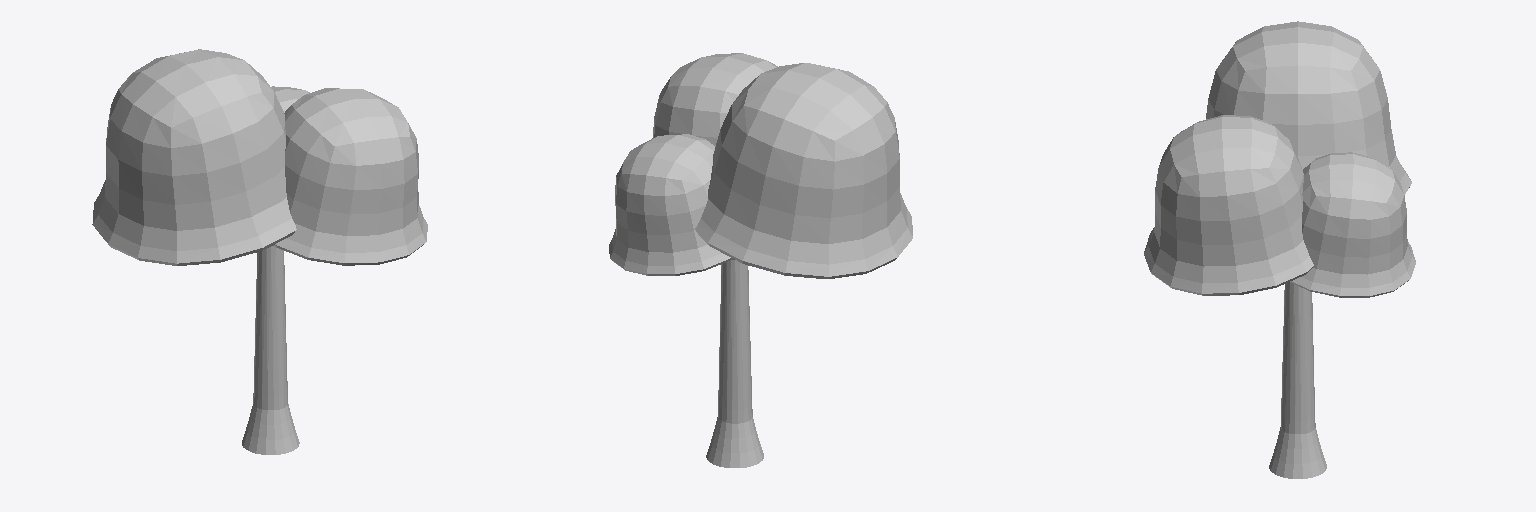
Rendered from WillowTree.obj.
3 renders of one model, left to right at view 1: azimuth 30°, elevation 25°; view 2: azimuth 150°, elevation 25°; view 3: azimuth 270°, elevation 25°, orthographic.
Visible parts, largest first — view 1: Cylinder.002_Cylinder.006; view 2: Cylinder.002_Cylinder.006; view 3: Cylinder.002_Cylinder.006.
Boxes of the visible parts, x1=… form: Cylinder.002_Cylinder.006: x1=92, y1=49, x2=427, y2=454; Cylinder.002_Cylinder.006: x1=609, y1=53, x2=912, y2=467; Cylinder.002_Cylinder.006: x1=1144, y1=21, x2=1415, y2=478.
Size of the model in its own units: 10.94 by 15.01 by 9.3.